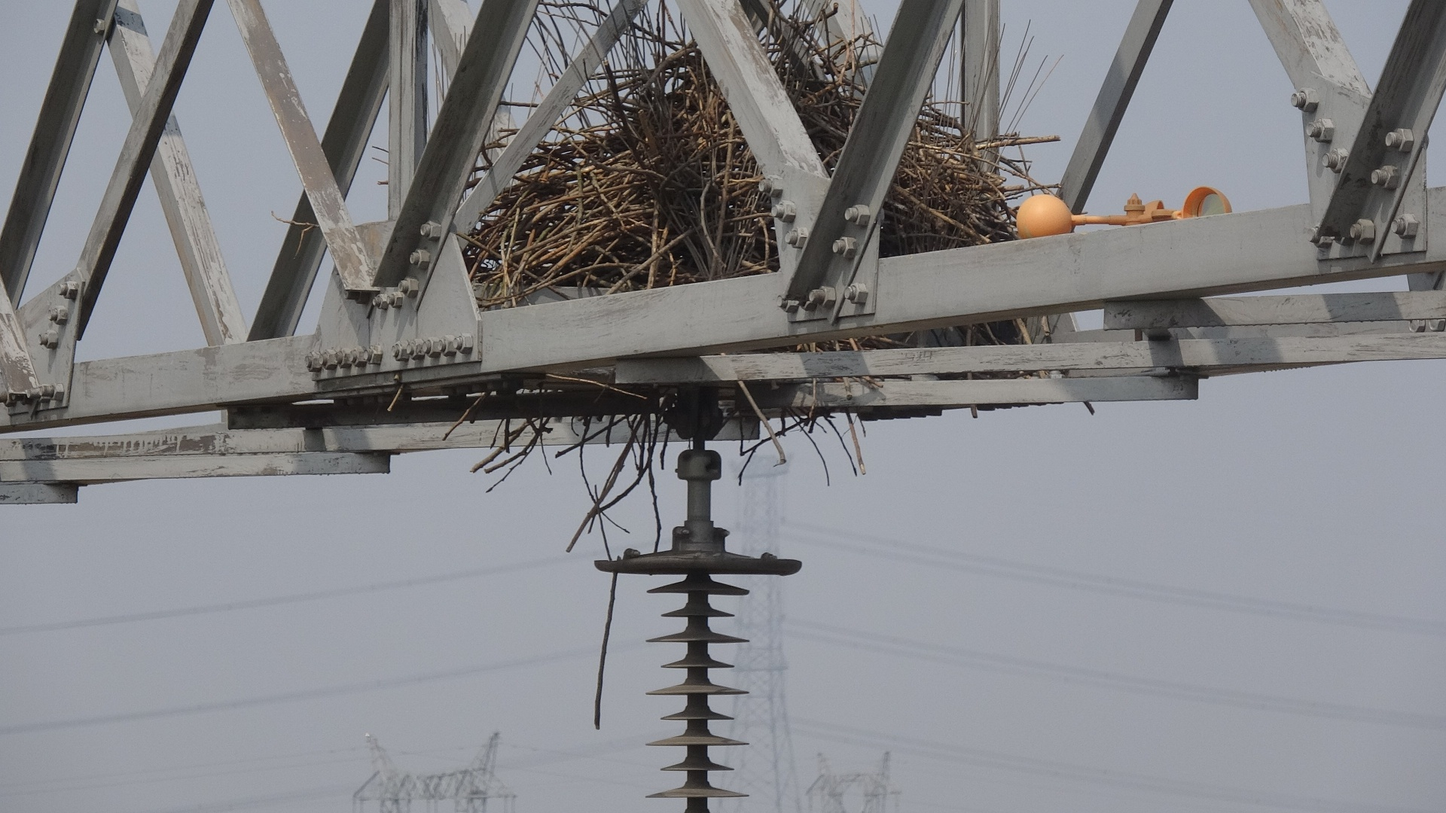insulator: (637, 577, 755, 813)
